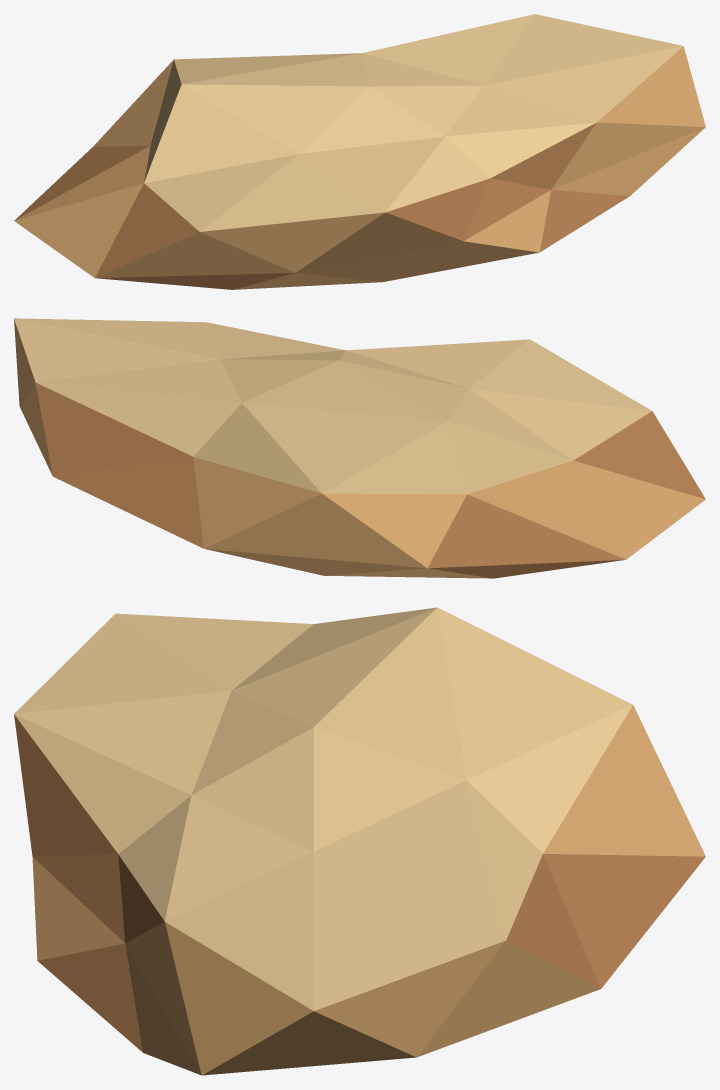
Rendered from DesertRock3.fbx.
3 views of the same model, one above another, from view 1: azimuth 30°, elevation 25°; view 2: azimuth 150°, elevation 25°; view 3: azimuth 270°, elevation 25° (orthographic). The views are drawn at different scales.
Parts seen in each view (by area): view 1: DesertRock3; view 2: DesertRock3; view 3: DesertRock3.
Boxes of the visible parts, x1,y1,x2,y2 form: DesertRock3: (14, 14, 705, 289); DesertRock3: (14, 318, 705, 578); DesertRock3: (14, 607, 705, 1075).
Size of the model in its own units: 8.07 by 1.54 by 5.11.
Materials: 1 (1 with a texture image).
